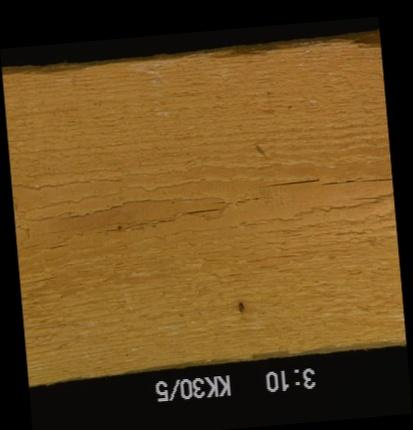small_knot: (233, 299, 249, 317)
split: (96, 208, 221, 236), (261, 171, 391, 195), (26, 238, 75, 256)
wave: (196, 35, 379, 59), (200, 342, 404, 360), (1, 62, 132, 78)
